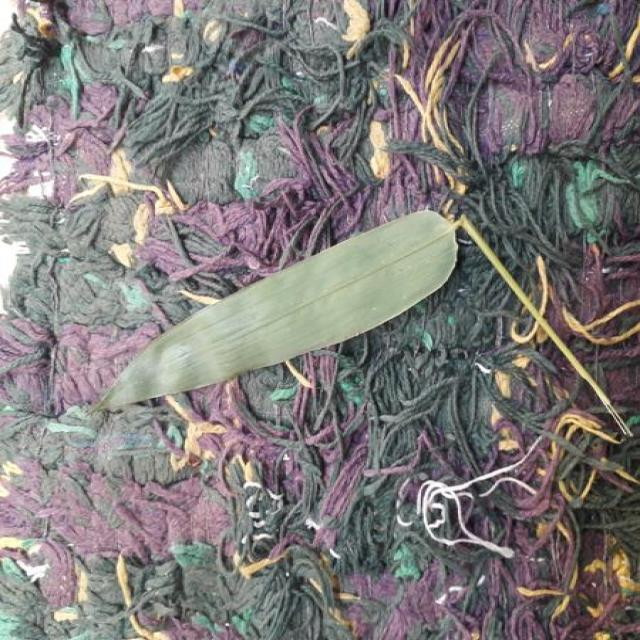Bamboo: (97, 211, 457, 409)
